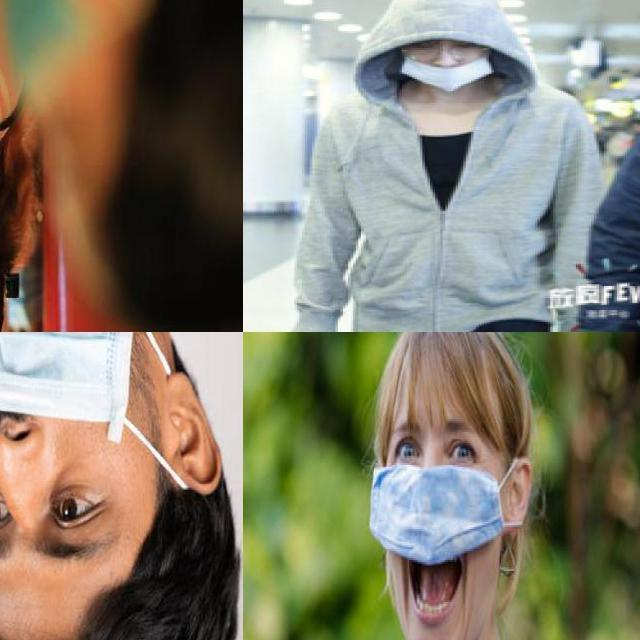hairnet: (379, 459, 523, 627), (0, 332, 181, 464), (402, 53, 493, 93)
